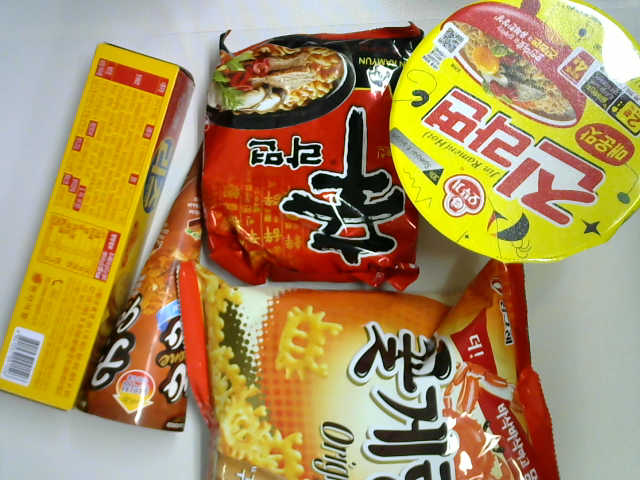Crabrang: (177, 256, 565, 480)
GooGoo_Cone_CVS: (71, 132, 218, 432)
Jinlamyeon_Hot_Taste_Large_Cup: (387, 1, 640, 266)
Ritz_Sand_Cracker: (1, 41, 197, 410)
Sinramen: (198, 21, 433, 294)
